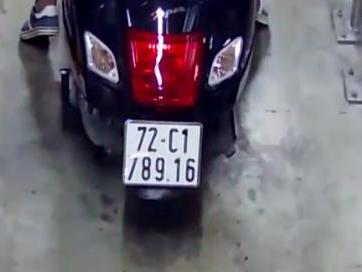num_plate: (125, 119, 201, 187)
